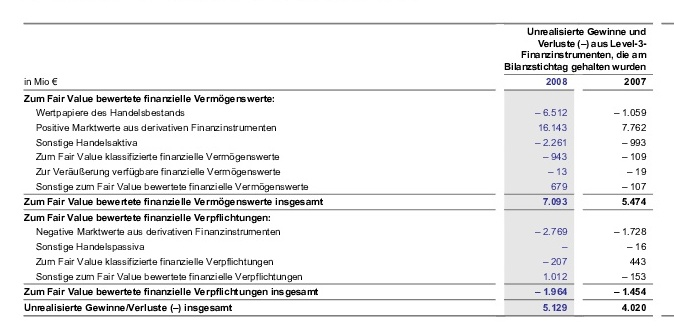table: (0, 0, 674, 330)
